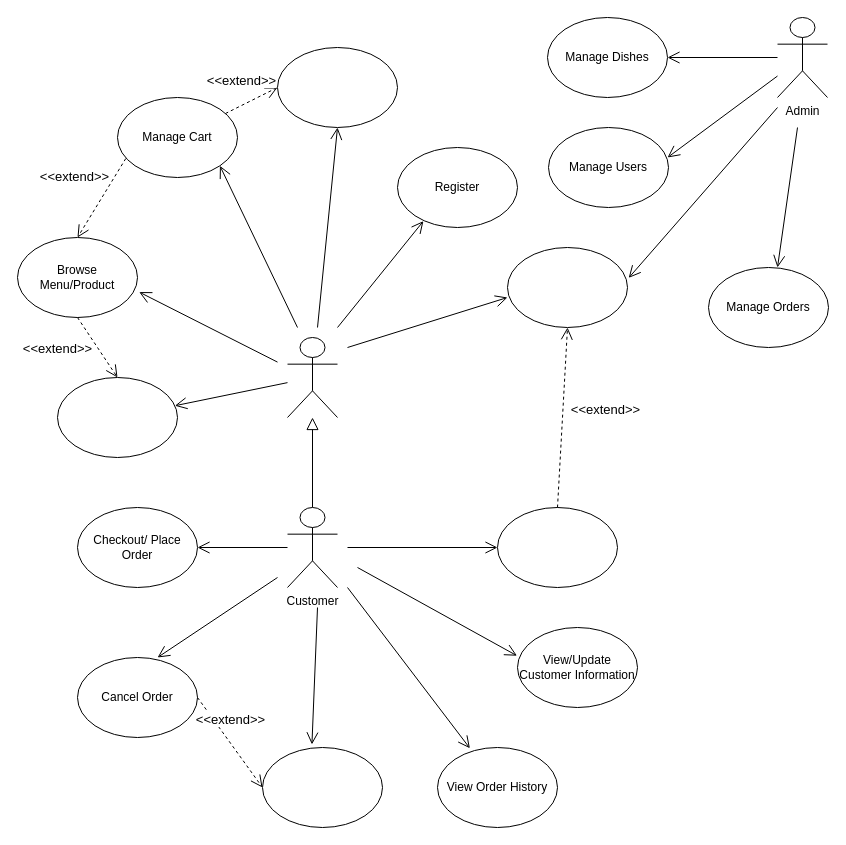
Image size: 846x845. Some labels were removed from this diagram. Each missing label, with the box of its shape:
Guest: (286, 336, 338, 418)
Login: (506, 246, 628, 328)
Password Recovery: (496, 506, 618, 588)
Search Dish: (276, 46, 398, 128)
View Dish Detail: (56, 376, 178, 458)
View Order Detail: (262, 746, 382, 828)
